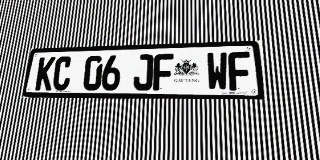0: (82, 55, 103, 91)
6: (101, 55, 122, 91)
C: (52, 56, 73, 90)
F: (228, 51, 252, 91), (153, 54, 173, 91)
J: (133, 54, 153, 91)
K: (35, 57, 56, 90)
W: (206, 52, 229, 91)
